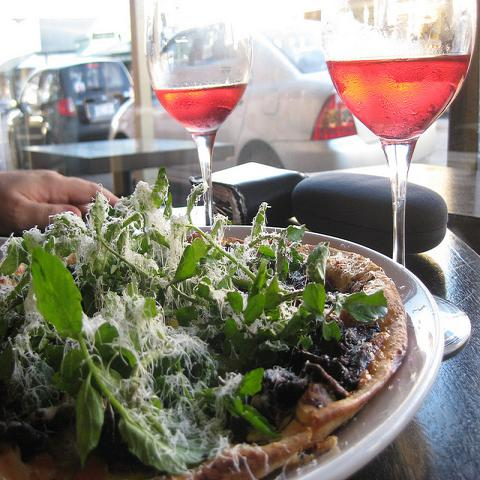car: (110, 24, 436, 171), (4, 55, 138, 164)
